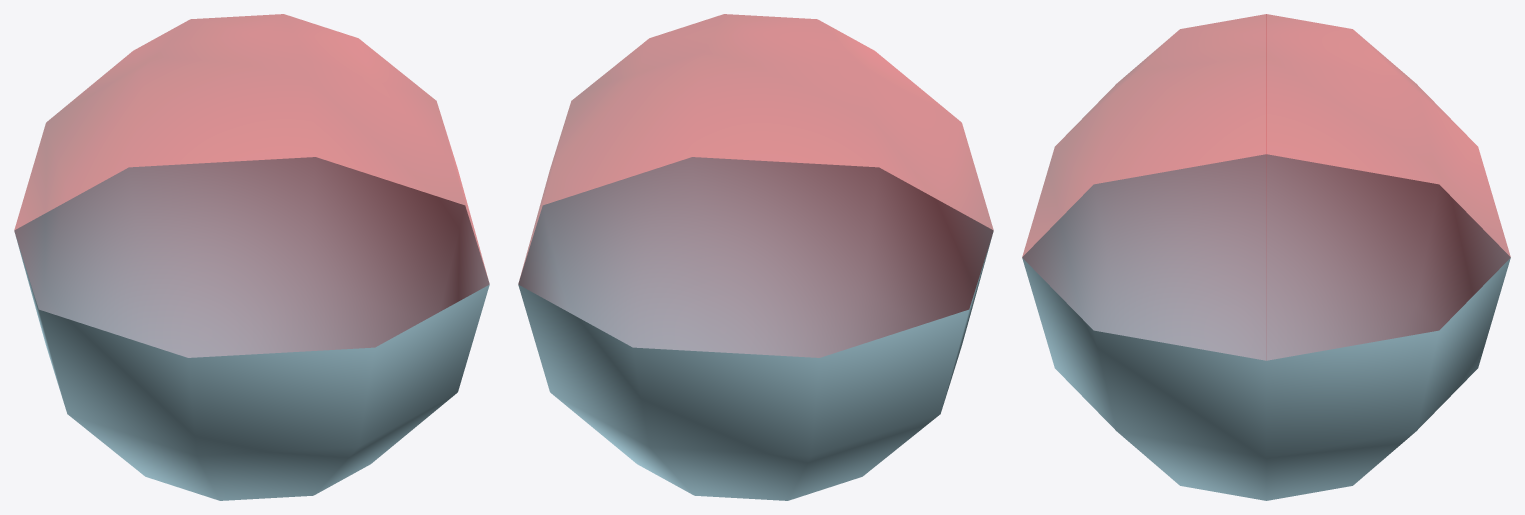
File: TestBall.glb
3 views of the same model, side by side, from view 1: azimuth 30°, elevation 25°; view 2: azimuth 150°, elevation 25°; view 3: azimuth 270°, elevation 25° (orthographic).
Parts seen in each view (by area): view 1: Sphere; view 2: Sphere; view 3: Sphere.
Boxes of the visible parts, x1,y1,x2,y2 form: Sphere: (14, 14, 489, 500); Sphere: (518, 14, 993, 500); Sphere: (1022, 14, 1510, 500).
Bounding box in the file's own units: 2 × 2 × 2.
